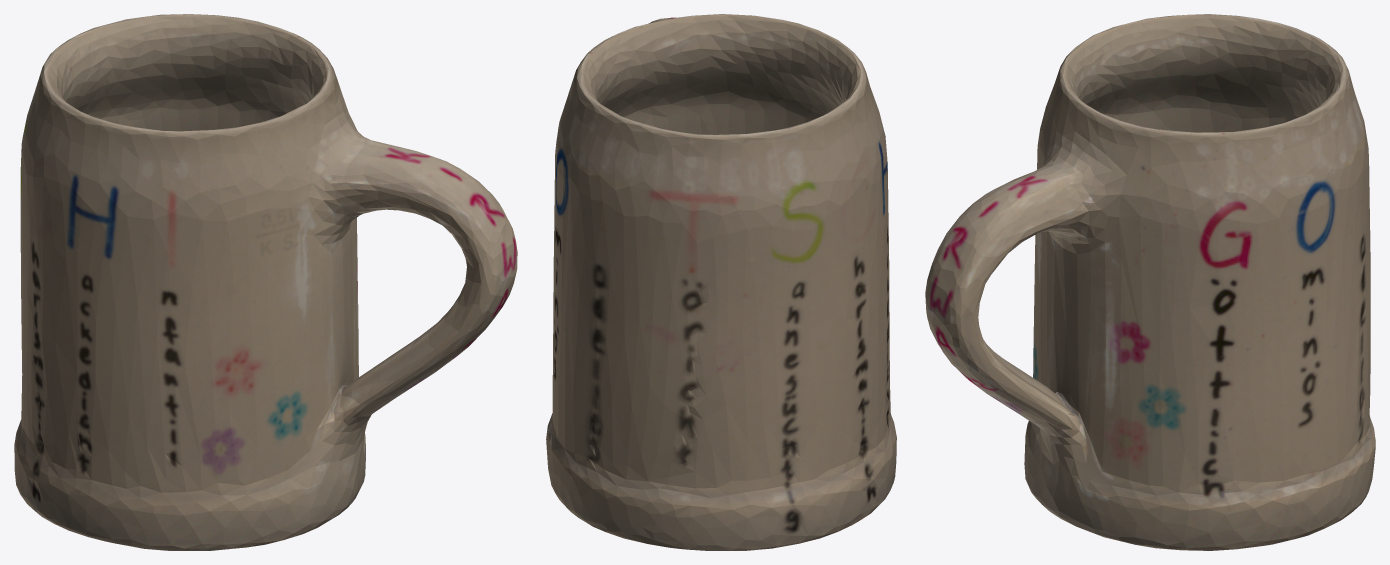
The model's file is E6D5AF89-0DCE-6043-83A5-E7B84FA5E97D_2k.glb.
The picture shows the model from 3 angles, left to right: view 1: azimuth 30°, elevation 25°; view 2: azimuth 150°, elevation 25°; view 3: azimuth 270°, elevation 25°; orthographic projection.
Visible parts, largest first — view 1: Krug Akronym_5k_2k; view 2: Krug Akronym_5k_2k; view 3: Krug Akronym_5k_2k.
Boxes of the visible parts, bbox=[...] form: Krug Akronym_5k_2k: bbox=[14, 14, 517, 550]; Krug Akronym_5k_2k: bbox=[546, 14, 896, 550]; Krug Akronym_5k_2k: bbox=[925, 14, 1375, 550].
Bounding box in the file's own units: 0.1162 × 0.1276 × 0.1271.
1 material, 1 textured.
